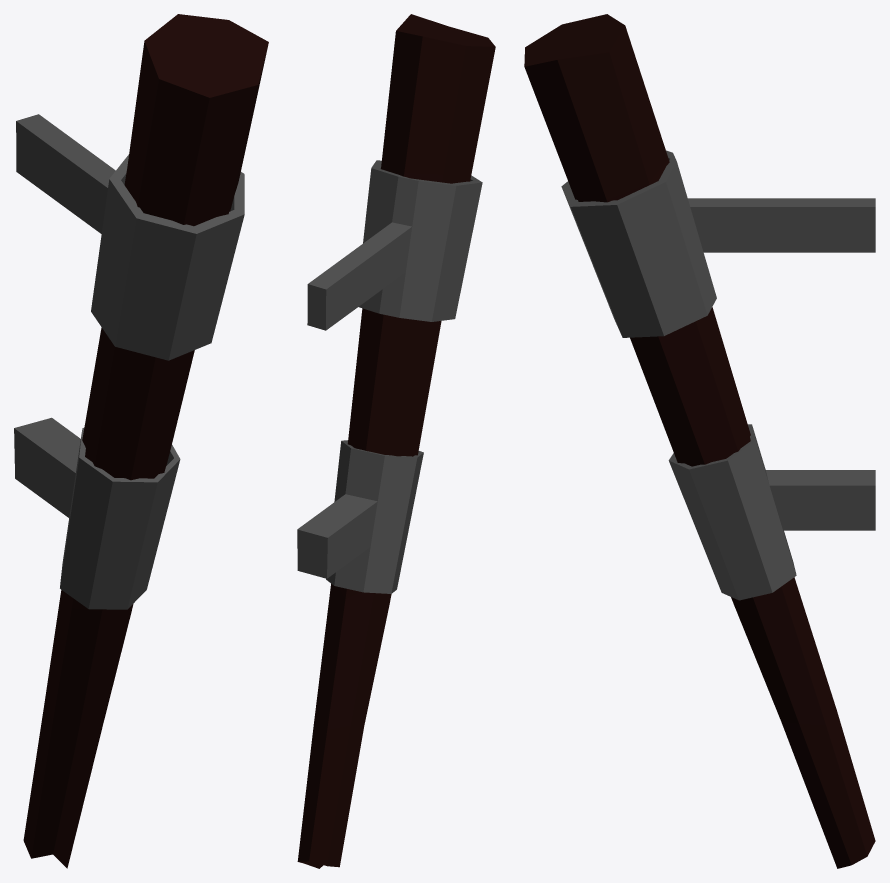
File: Torch.fbx
3 renders of one model, left to right at view 1: azimuth 30°, elevation 25°; view 2: azimuth 150°, elevation 25°; view 3: azimuth 270°, elevation 25°, orthographic. The views are drawn at different scales.
Visible parts, largest first — view 1: Cylinder.002; view 2: Cylinder.002; view 3: Cylinder.002.
Boxes of the visible parts, x1=… form: Cylinder.002: x1=14, y1=14, x2=268, y2=868; Cylinder.002: x1=297, y1=14, x2=495, y2=868; Cylinder.002: x1=524, y1=14, x2=875, y2=868.
Size of the model in its own units: 26.36 by 199 by 75.32.
